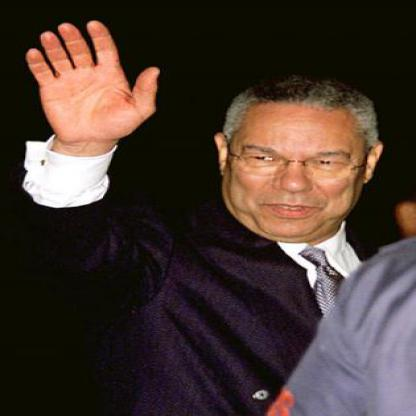face: (226, 89, 368, 242)
